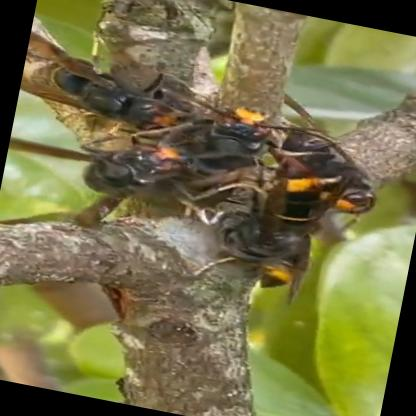bee: (0, 11, 416, 310)
